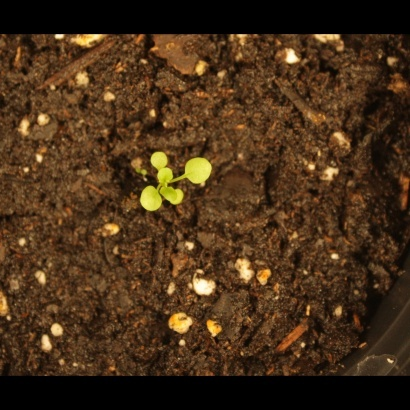leaf: (184, 155, 218, 187), (139, 184, 165, 215), (146, 146, 172, 172), (152, 164, 179, 187), (163, 186, 186, 209)
